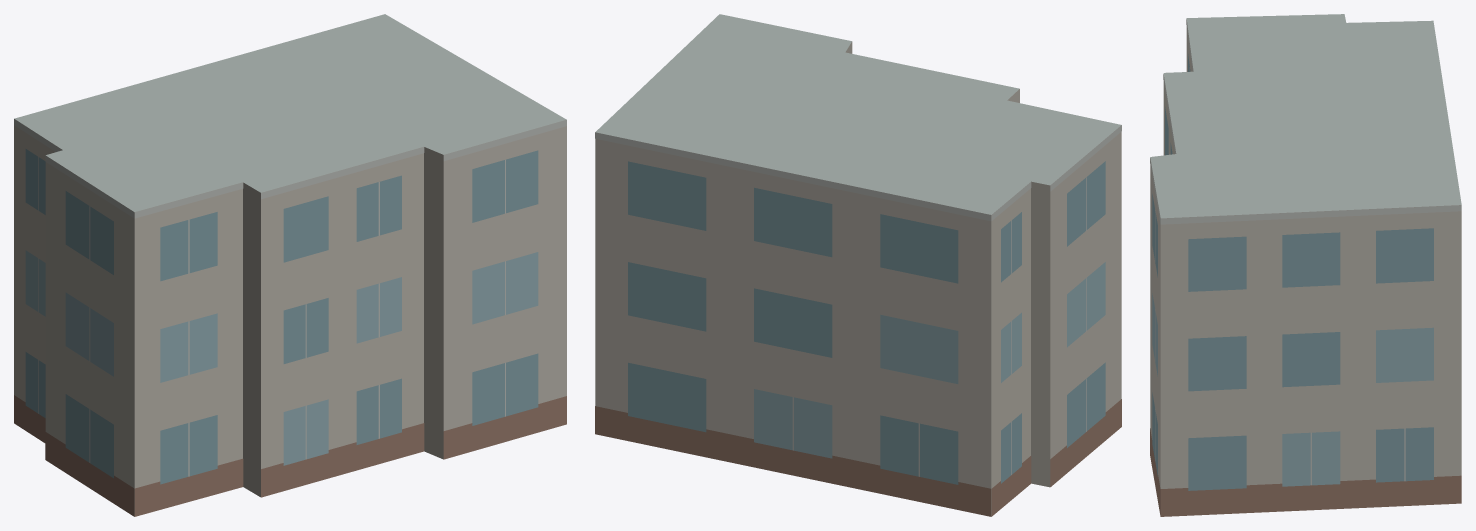
Rendered from survey-upis-32752248.glb.
3 views of the same model, side by side, from view 1: azimuth 30°, elevation 25°; view 2: azimuth 150°, elevation 25°; view 3: azimuth 270°, elevation 25° (orthographic). The views are drawn at different scales.
Visible parts, largest first — view 1: survey-upis-32752248.tmp; view 2: survey-upis-32752248.tmp; view 3: survey-upis-32752248.tmp.
Part boxes in pixels (x1,y1,x2,y2): survey-upis-32752248.tmp: [14, 14, 566, 516]; survey-upis-32752248.tmp: [595, 14, 1121, 516]; survey-upis-32752248.tmp: [1150, 14, 1461, 516].
Bounding box in the file's own units: 16.93 × 11.52 × 10.91.
